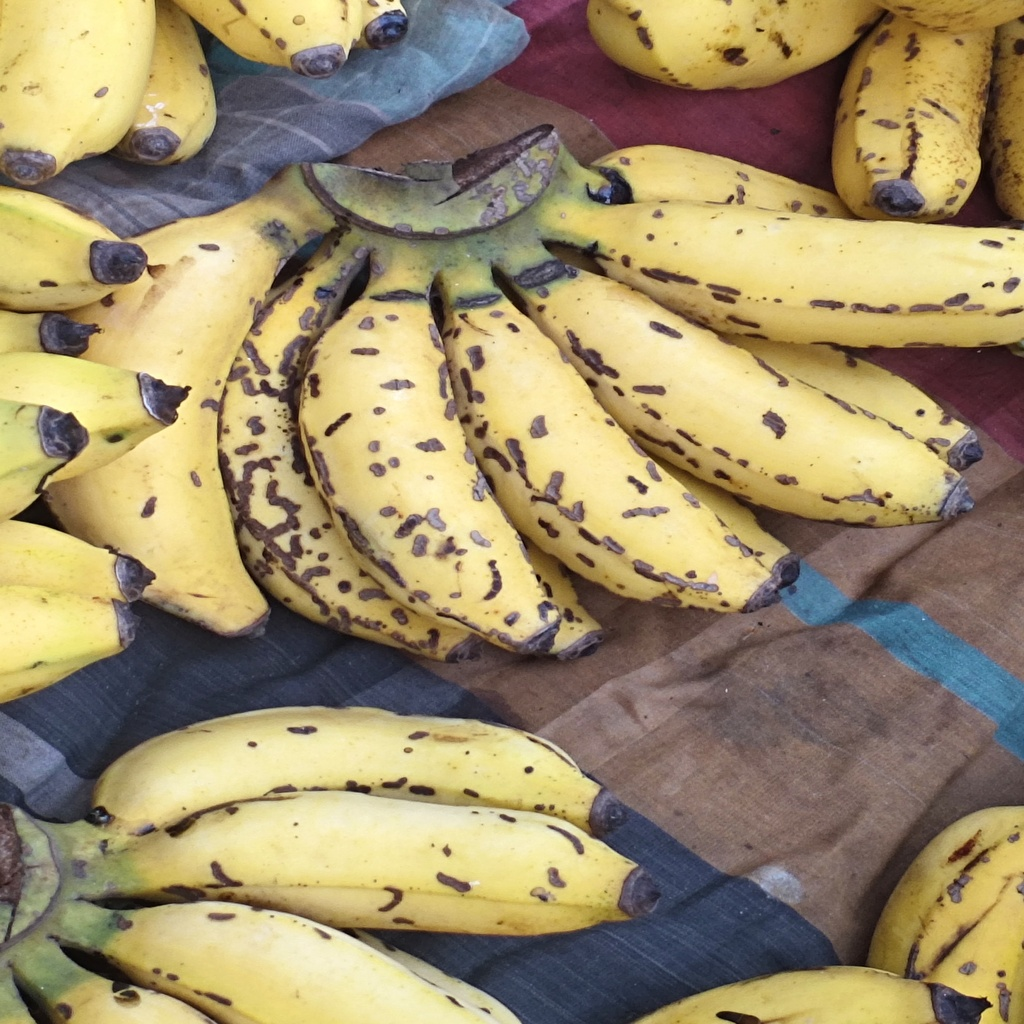unhealthy: (518, 265, 964, 524), (441, 307, 792, 604), (303, 292, 561, 651), (122, 789, 650, 935), (91, 704, 620, 837), (602, 198, 1020, 350)
